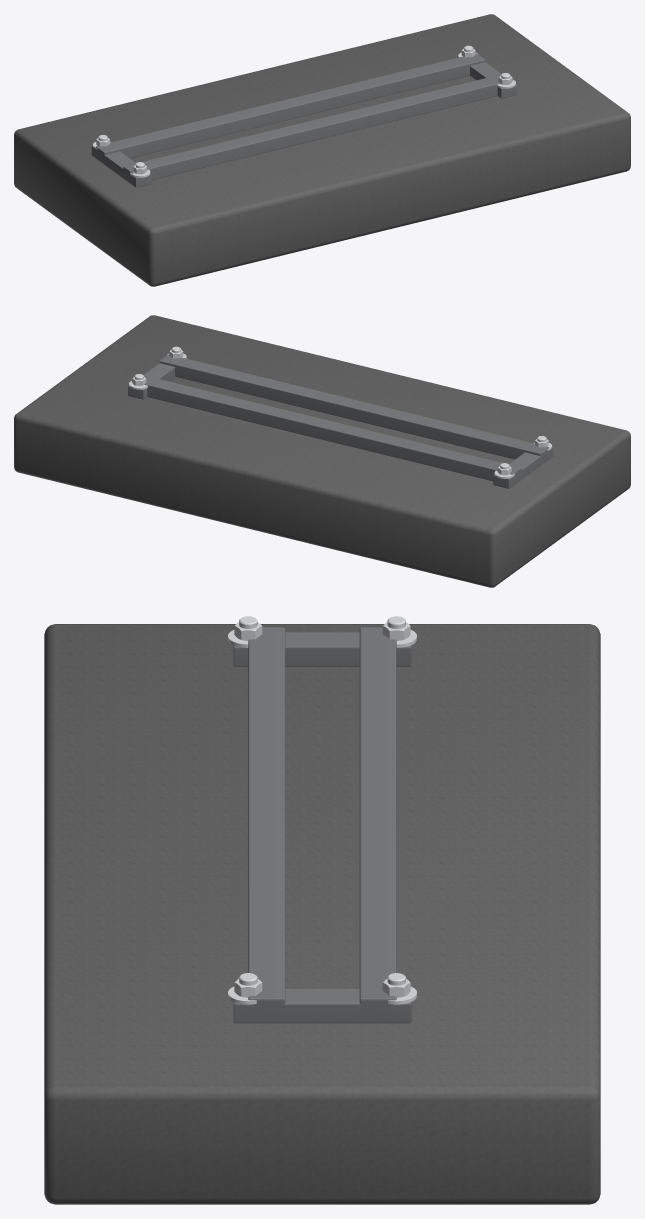
Rendered from stand.glb.
3 views of the same model, one above another, from view 1: azimuth 30°, elevation 25°; view 2: azimuth 150°, elevation 25°; view 3: azimuth 270°, elevation 25° (orthographic). The views are drawn at different scales.
Parts seen in each view (by area): view 1: stand; view 2: stand; view 3: stand.
Part boxes in pixels (x1,y1,x2,y2): stand: [14, 14, 630, 286]; stand: [14, 315, 630, 587]; stand: [44, 616, 600, 1204].
Bounding box in the file's own units: 600 × 93.61 × 300.
3 materials, 1 textured.
